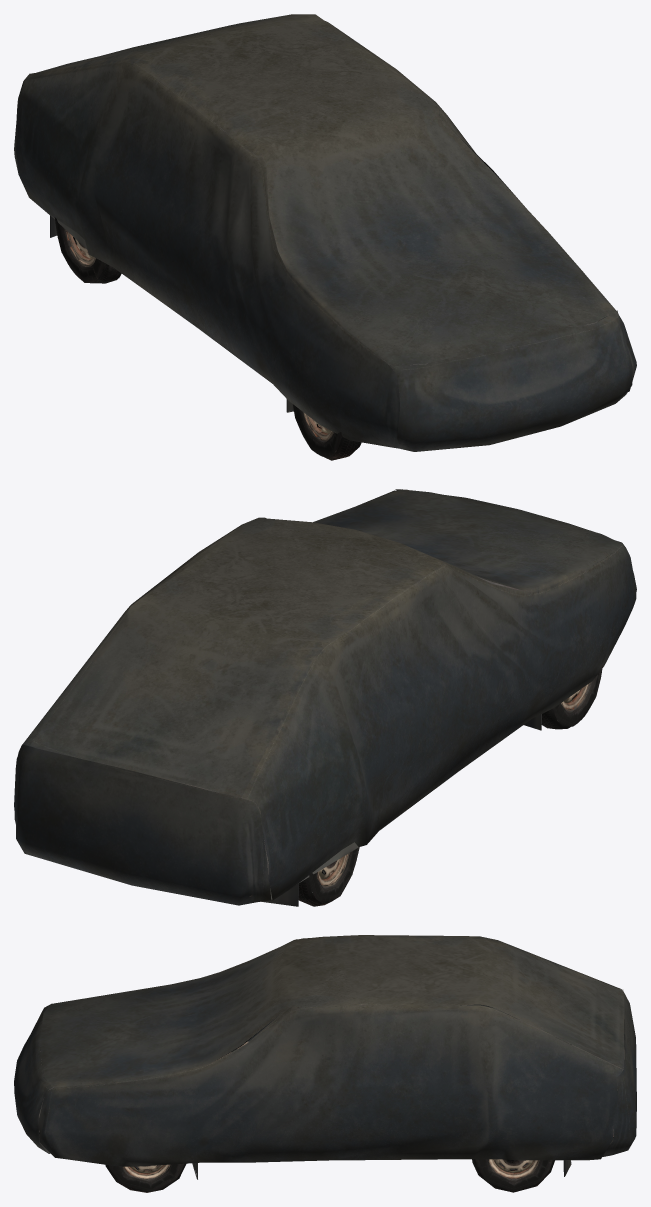
File: car.glb
3 renders of one model, top to bottom at view 1: azimuth 30°, elevation 25°; view 2: azimuth 150°, elevation 25°; view 3: azimuth 270°, elevation 25°, orthographic. The views are drawn at different scales.
Visible parts, largest first — view 1: covered_car_wheel_01; view 2: covered_car_wheel_01; view 3: covered_car_wheel_01.
Part boxes in pixels (x1,y1,x2,y2): covered_car_wheel_01: (14,14,636,460); covered_car_wheel_01: (14,489,636,906); covered_car_wheel_01: (14,935,636,1192).
Size of the model in its own units: 1.8 by 1.41 by 4.37.
2 materials, 2 textured.
